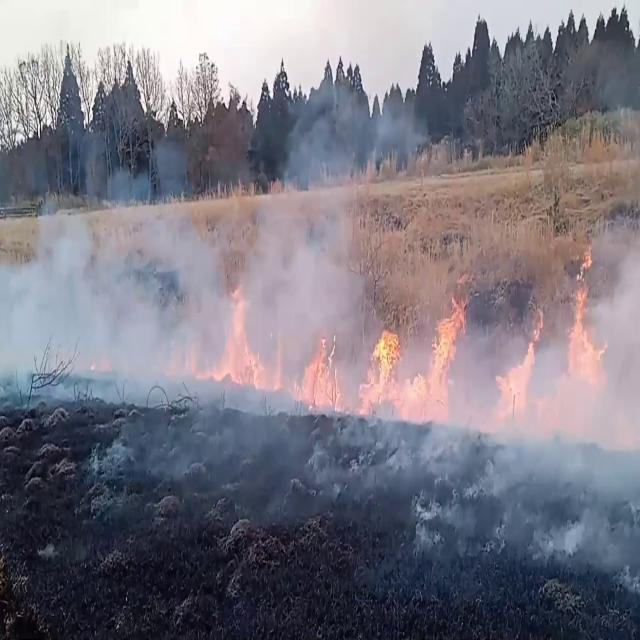Fire: (491, 219, 640, 452), (222, 278, 342, 410), (428, 289, 470, 416), (361, 319, 405, 412)
Smoke: (0, 136, 370, 403), (486, 209, 640, 459), (534, 493, 640, 592)
